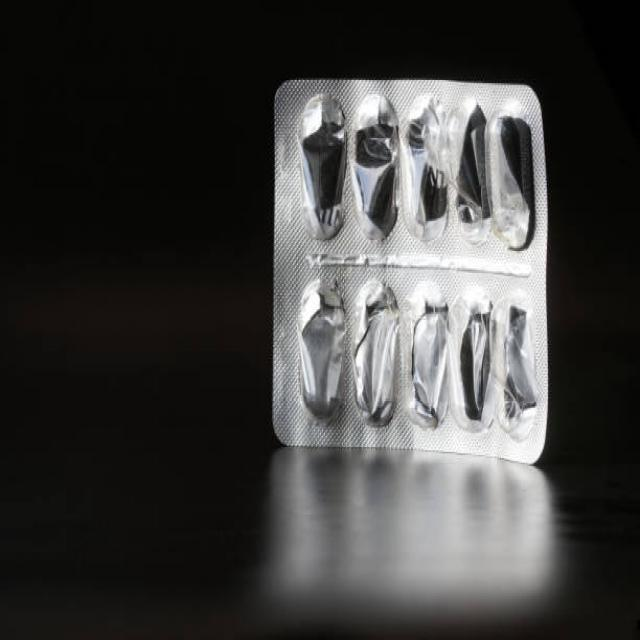Empty: (286, 89, 351, 252), (290, 271, 351, 428), (351, 267, 403, 442), (405, 268, 453, 448), (492, 101, 541, 264), (350, 91, 397, 250), (399, 94, 446, 251), (455, 272, 498, 442), (502, 281, 544, 448), (448, 97, 492, 255)
